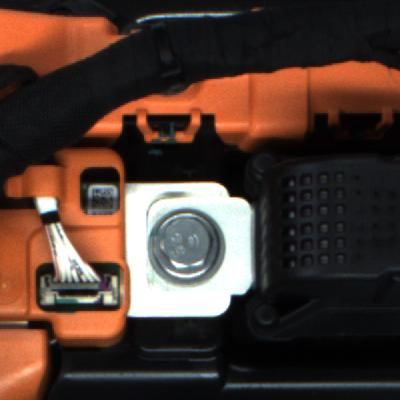nut_b: (143, 196, 238, 298)
